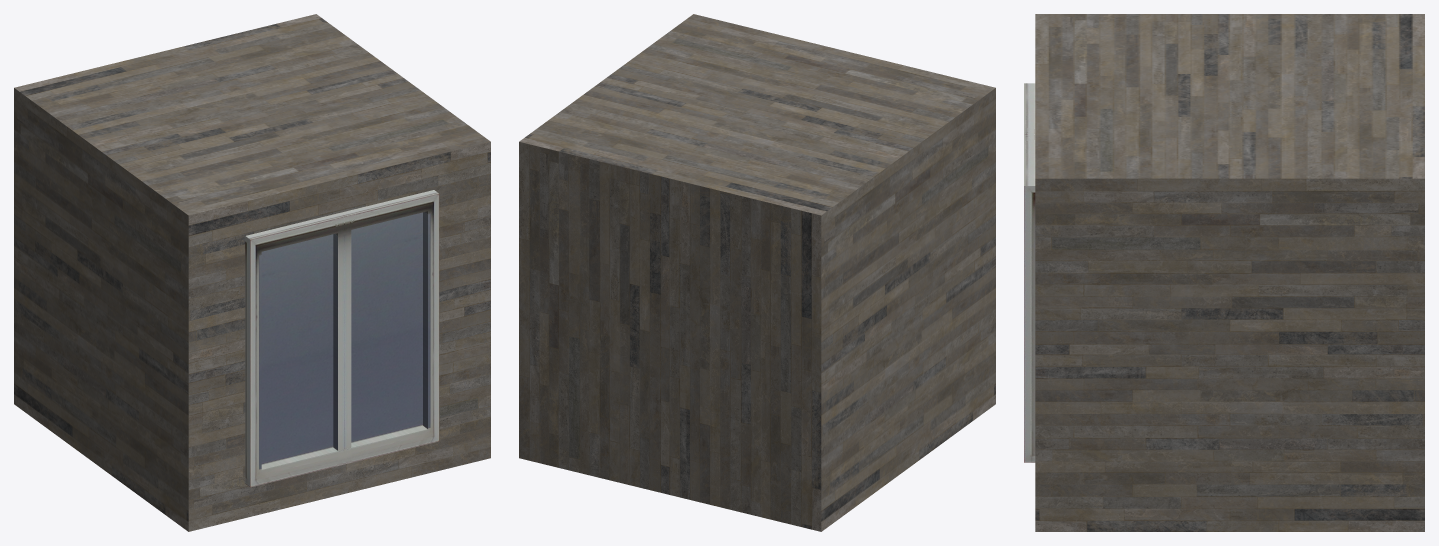
Rendered from single_window.fbx.
The picture shows the model from 3 angles, left to right: view 1: azimuth 30°, elevation 25°; view 2: azimuth 150°, elevation 25°; view 3: azimuth 270°, elevation 25°; orthographic projection. The views are drawn at different scales.
Parts seen in each view (by area): view 1: Cube.014; view 2: Cube.014; view 3: Cube.014.
Boxes of the visible parts, left/top/right/bottom form: Cube.014: left=14, top=14, right=490, bottom=531; Cube.014: left=519, top=14, right=995, bottom=531; Cube.014: left=1024, top=14, right=1424, bottom=531.
Size of the model in its own units: 206 by 200 by 200.
